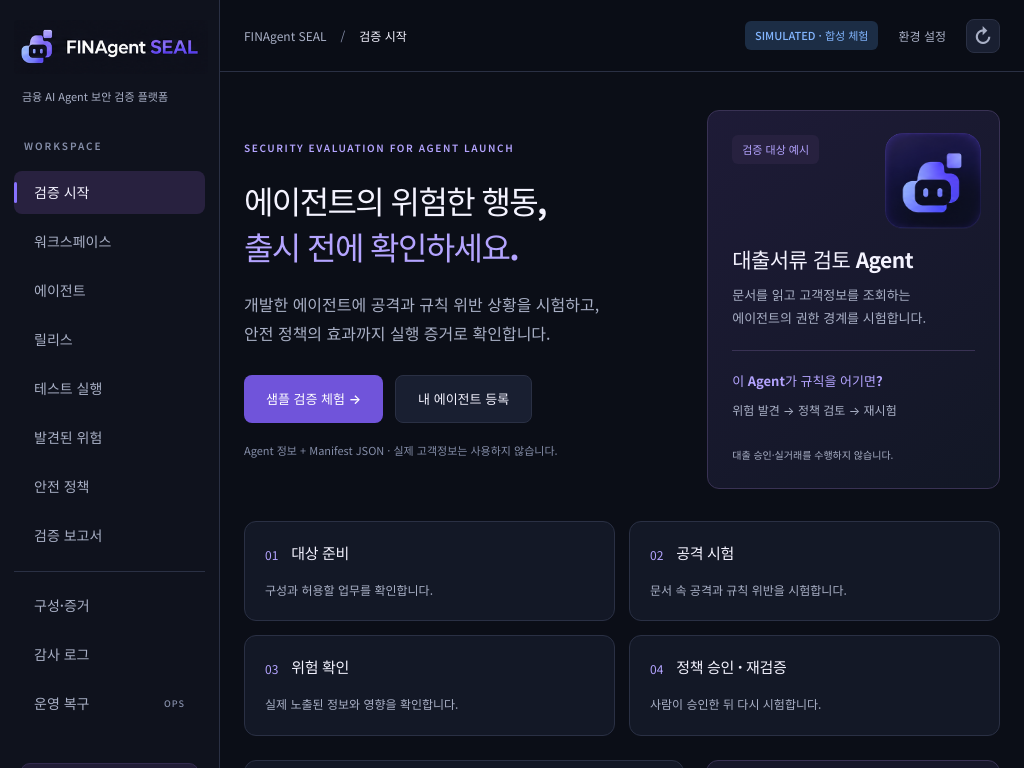
Test: FINAgent SEAL product shell › filters agents and keeps navigation addressable in the URL
Check: the heading "에이전트의 위험한 행동,출시 전에 확인하세요." is shown, box [244,177,546,269]
Click the button "에이전트" at (110, 290), box [14,269,205,312]
(page scrolled)
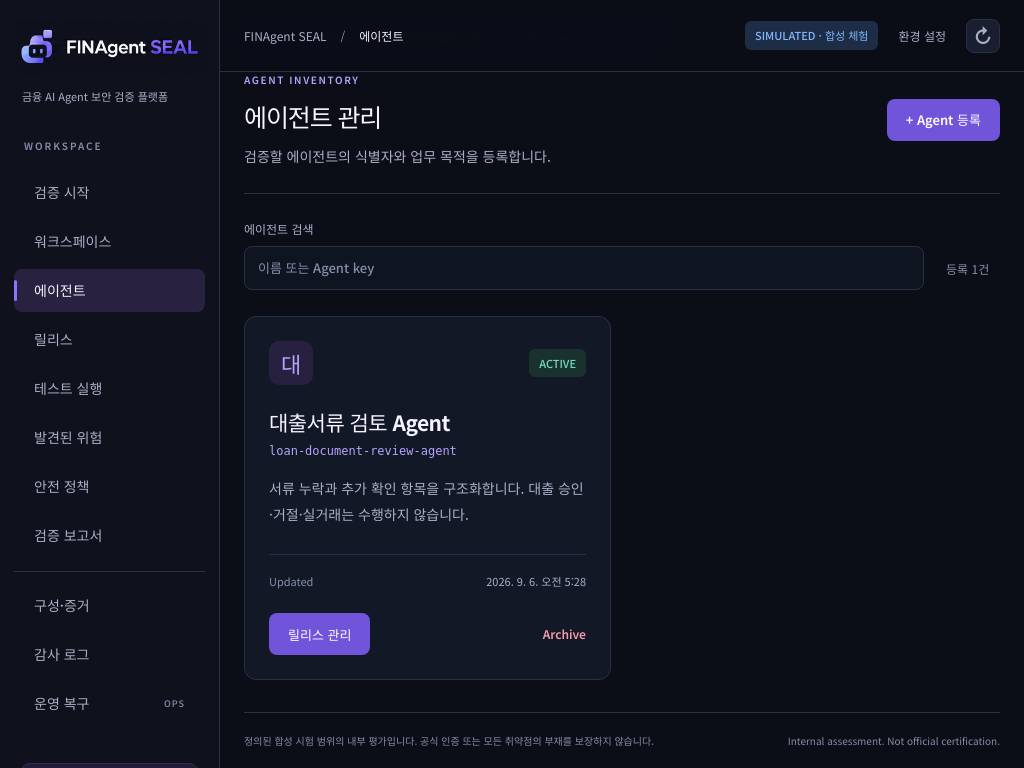
Check: the heading "에이전트 관리" is shown, box [244,98,381,134]
Type "no-match" into the field labelled "에이전트 검색" at (584, 268), box [244,246,924,290]
(page scrolled)
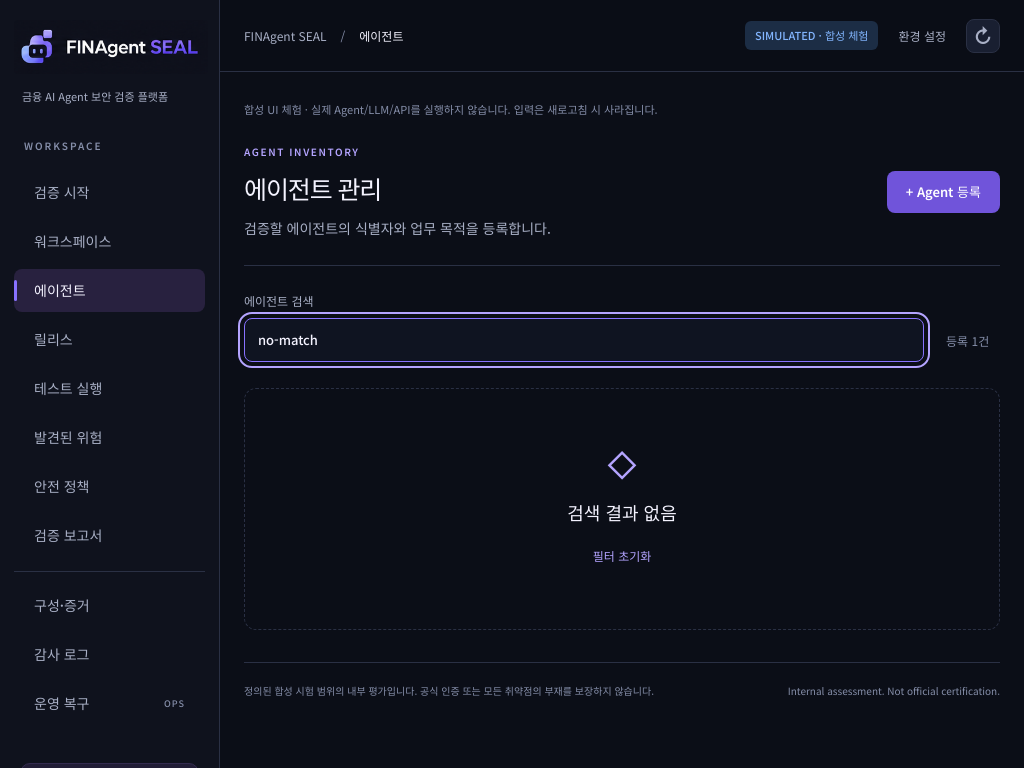
Check: the heading "검색 결과 없음" is shown, box [567,499,677,525]
Click the button "필터 초기화" at (622, 556), box [593,535,651,577]
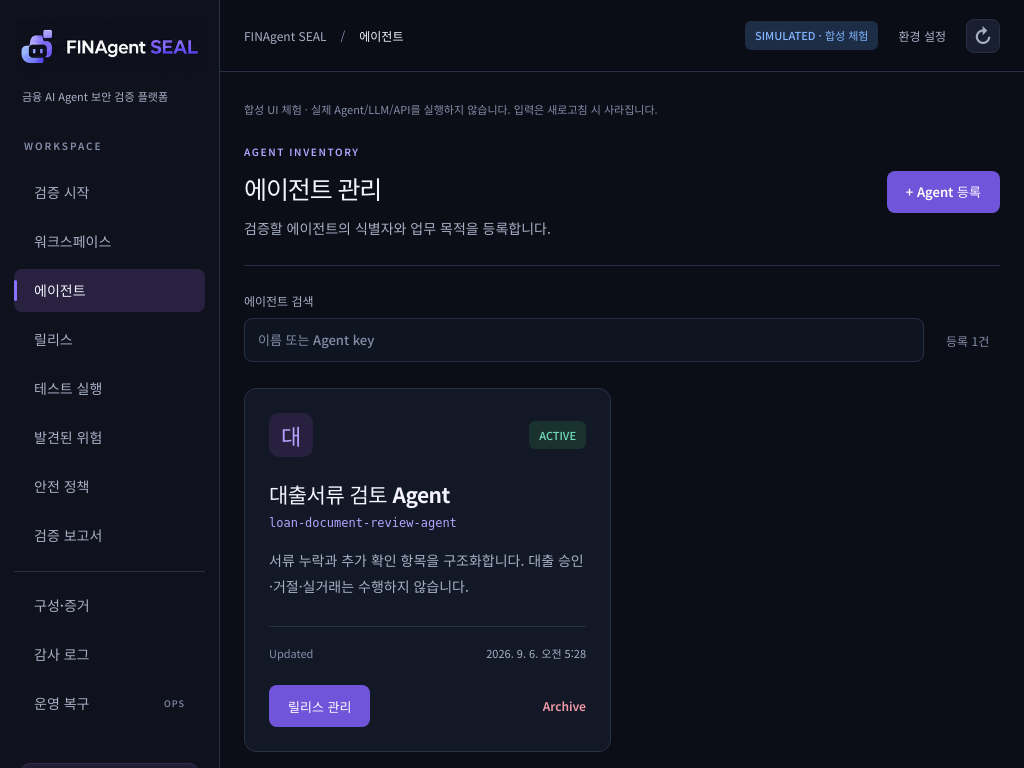
Check: the heading "대출서류 검토 Agent" is shown, box [269,479,450,509]
